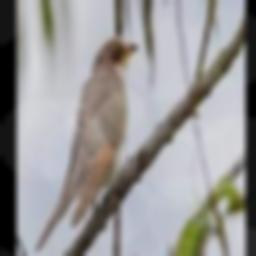Cuckoo: (34, 36, 138, 253)
